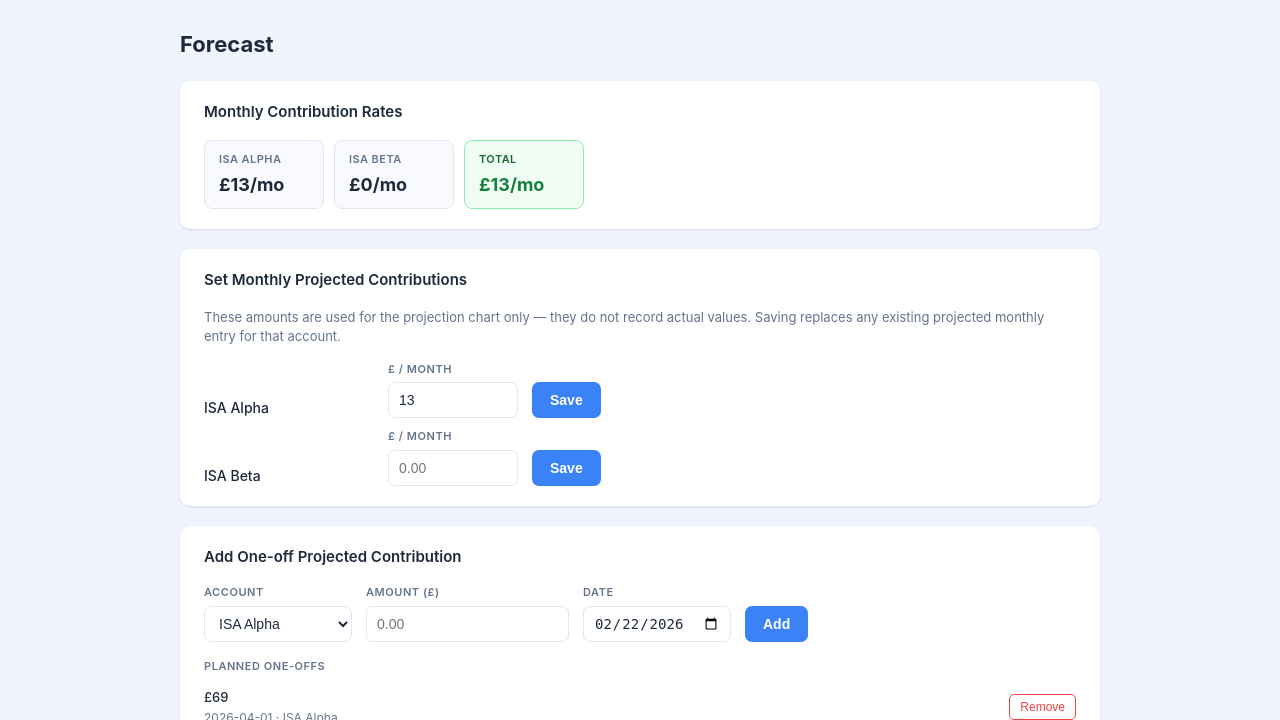
Test: Forecast page › shows a success notice after removing a contribution
Click the button "Remove": (1043, 707) [1009,694,1076,719]
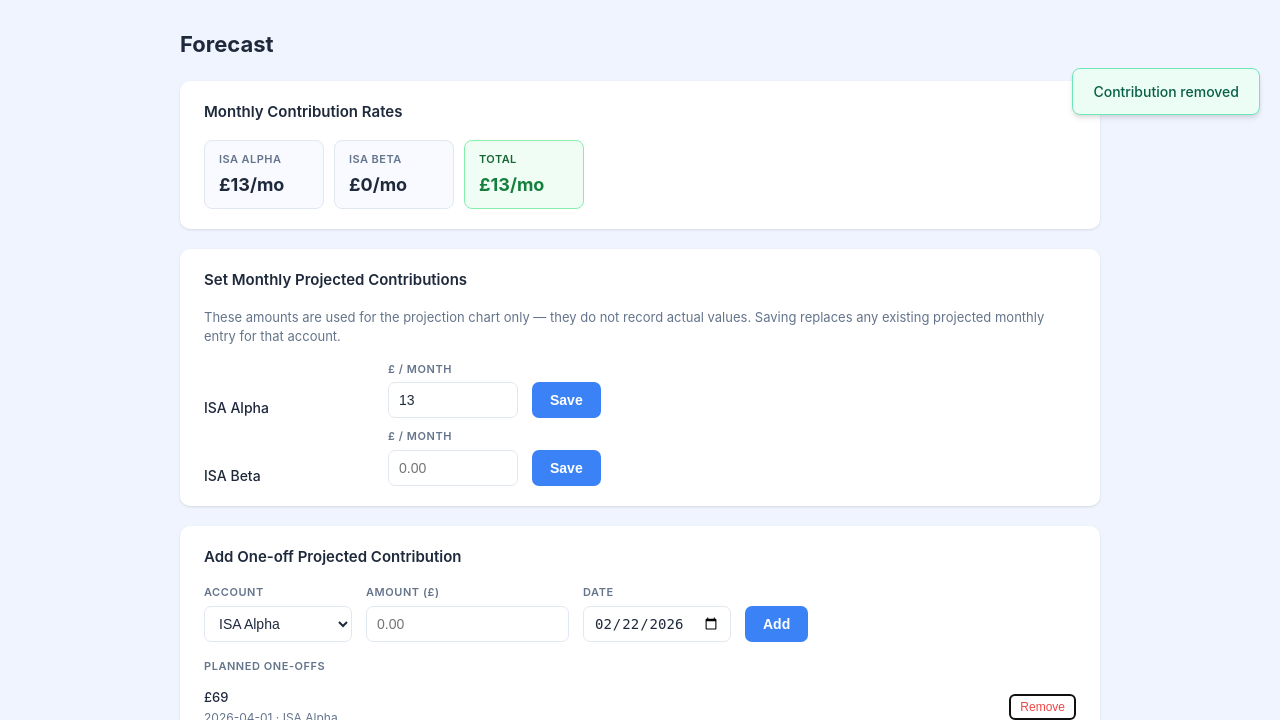
Check: the text "Contribution removed" is shown, box [1072,68,1260,115]
